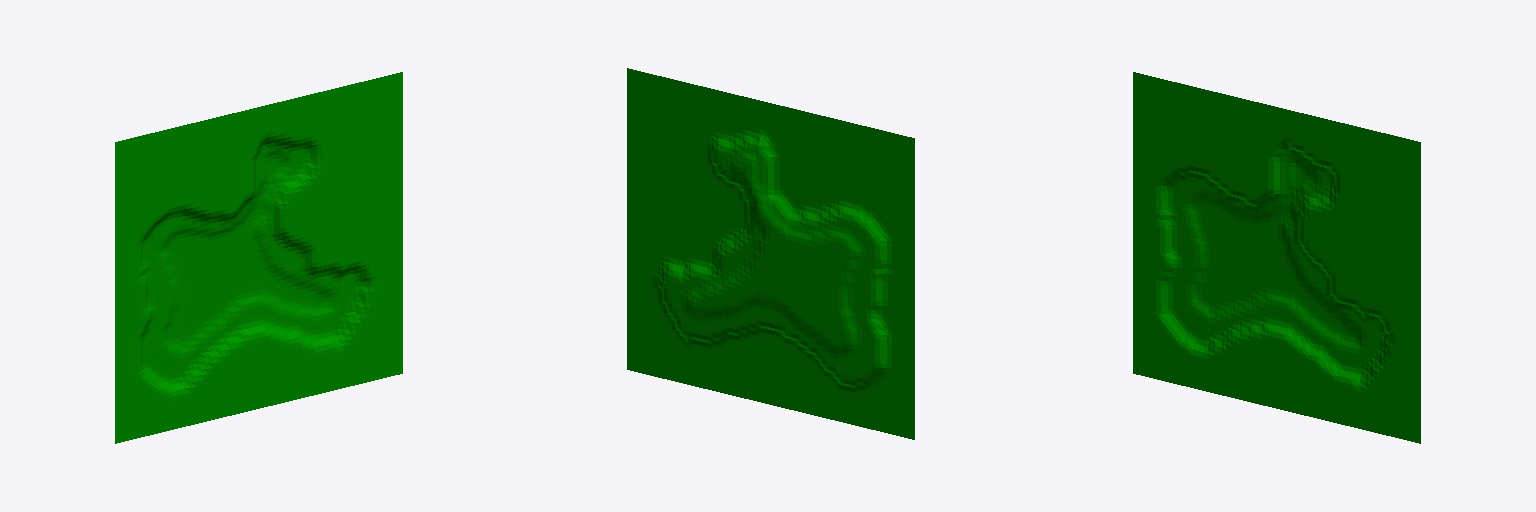
File: lake.obj
3 views of the same model, side by side, from view 1: azimuth 30°, elevation 25°; view 2: azimuth 150°, elevation 25°; view 3: azimuth 330°, elevation 25° (orthographic).
Visible parts, largest first — view 1: Plane; view 2: Plane; view 3: Plane.
Boxes of the visible parts, <box> form: Plane: <box>115,72,402,443</box>; Plane: <box>627,68,914,439</box>; Plane: <box>1133,72,1420,443</box>.
Bounding box in the file's own units: 200 × 200 × 6.5.